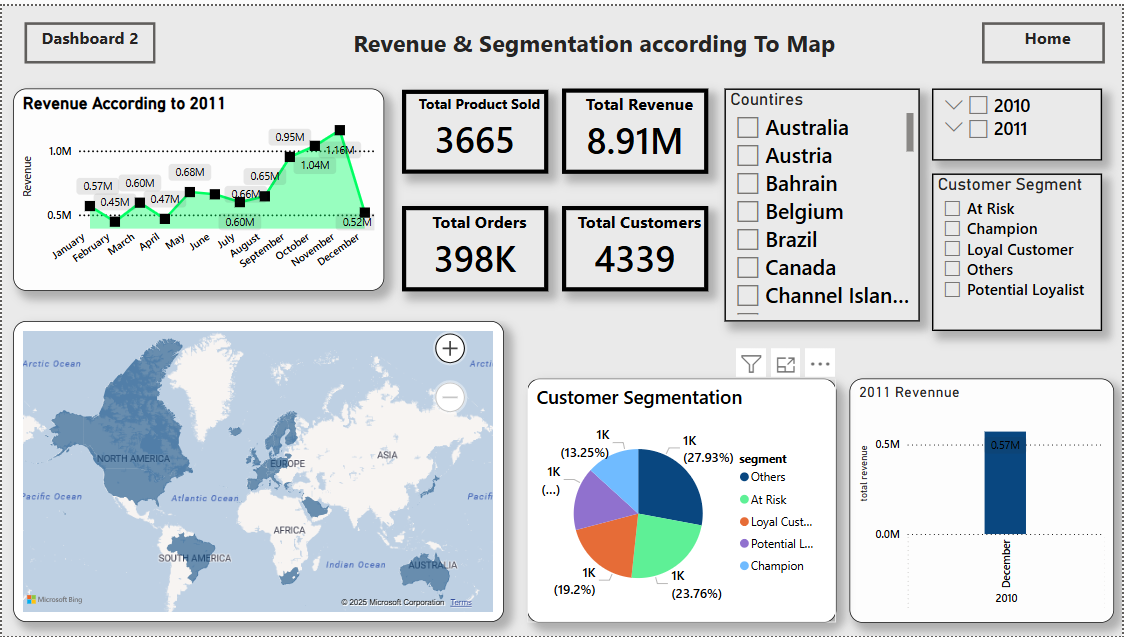

The page's visual inventory and layout, read from the dashboard file:
{"tool":"powerbi","page":{"name":"Overview according to map","canvas":[1280,720],"ordinal":3},"visuals":[{"type":"columnChart","title":"2011 Revennue","fields":{"Category":["cleaned_online_retail.InvoiceDate.Variation.Date Hierarchy.Year","cleaned_online_retail.InvoiceDate.Variation.Date Hierarchy.Month"],"Y":["cleaned_online_retail.total revenue"]},"box":[968.3,425.4,302.5,279.6],"z":0},{"type":"filledMap","title":"Revenue By Country","fields":{"Category":["cleaned_online_retail.Country"]},"box":[12.2,360.6,560.5,344.4],"z":1000},{"type":"slicer","title":"Countires ","fields":{"Values":["cleaned_online_retail.Country"]},"box":[825.2,94.5,222.8,266],"z":2000},{"type":"slicer","fields":{"Values":["cleaned_online_retail.InvoiceDate.Variation.Date Hierarchy.Year","cleaned_online_retail.InvoiceDate.Variation.Date Hierarchy.Quarter","cleaned_online_retail.InvoiceDate.Variation.Date Hierarchy.Month","cleaned_online_retail.InvoiceDate.Variation.Date Hierarchy.Day"]},"box":[1062.8,94.5,194.5,82.4],"z":3000},{"type":"slicer","title":"Customer Segment","fields":{"Values":["rfm_segments.segment"]},"box":[1062.8,191.8,194.5,179.6],"z":4000},{"type":"textbox","box":[25.7,18.9,149.9,47.3],"z":4001},{"type":"actionButton","box":[25.7,18.9,149.9,47.3],"z":4002},{"type":"textbox","box":[599.6,18.9,416,59.4],"z":4003},{"type":"pieChart","title":"Customer Segmentation","fields":{"Category":["rfm_segments.segment"],"Y":["RFM.Unique customers"]},"box":[599.6,425.4,353.8,279.6],"z":4004},{"type":"card","title":"Total Revenue","fields":{"Values":["cleaned_online_retail.total revenue"]},"box":[640.1,94.5,167.5,97.2],"z":4005},{"type":"card","title":"Total Customers ","fields":{"Values":["RFM.Unique customers"]},"box":[640.1,228.2,167.5,97.2],"z":4006},{"type":"card","title":"Total Orders","fields":{"Values":["RFM.Total orders"]},"box":[456.5,228.2,167.5,97.2],"z":4007},{"type":"card","title":"Total Product Sold","fields":{"Values":["RFM.total product sold"]},"box":[456.5,95.9,167.5,95.9],"z":4008},{"type":"lineChart","title":"Revenue According to 2011","fields":{"Y":["cleaned_online_retail.total revenue"],"Category":["cleaned_online_retail.InvoiceDate.Variation.Date Hierarchy.Year","cleaned_online_retail.InvoiceDate.Variation.Date Hierarchy.Month"]},"box":[12.2,94.5,424.1,230.9],"z":4009},{"type":"textbox","box":[1119.6,18.9,149.9,47.3],"z":4010},{"type":"actionButton","box":[1119.6,18.9,140.5,47.3],"z":4011}]}

Visuals, with their boxes in screenshot pixels (x1, y1, x2, y2), scaled from the page's 1280x720 canvas onto the 1124x637 screenshot:
"2011 Revennue" columnChart: [x1=850, y1=376, x2=1116, y2=624]
"Revenue By Country" filledMap: [x1=11, y1=319, x2=503, y2=624]
"Countires " slicer: [x1=725, y1=84, x2=920, y2=319]
slicer - cleaned_online_retail.InvoiceDate.Variation.Date Hierarchy.Year x cleaned_online_retail.InvoiceDate.Variation.Date Hierarchy.Quarter: [x1=933, y1=84, x2=1104, y2=157]
"Customer Segment" slicer: [x1=933, y1=170, x2=1104, y2=329]
textbox: [x1=23, y1=17, x2=154, y2=59]
actionButton: [x1=23, y1=17, x2=154, y2=59]
textbox: [x1=527, y1=17, x2=892, y2=69]
"Customer Segmentation" pieChart: [x1=527, y1=376, x2=837, y2=624]
"Total Revenue" card: [x1=562, y1=84, x2=709, y2=170]
"Total Customers " card: [x1=562, y1=202, x2=709, y2=288]
"Total Orders" card: [x1=401, y1=202, x2=548, y2=288]
"Total Product Sold" card: [x1=401, y1=85, x2=548, y2=170]
"Revenue According to 2011" lineChart: [x1=11, y1=84, x2=383, y2=288]
textbox: [x1=983, y1=17, x2=1115, y2=59]
actionButton: [x1=983, y1=17, x2=1107, y2=59]
